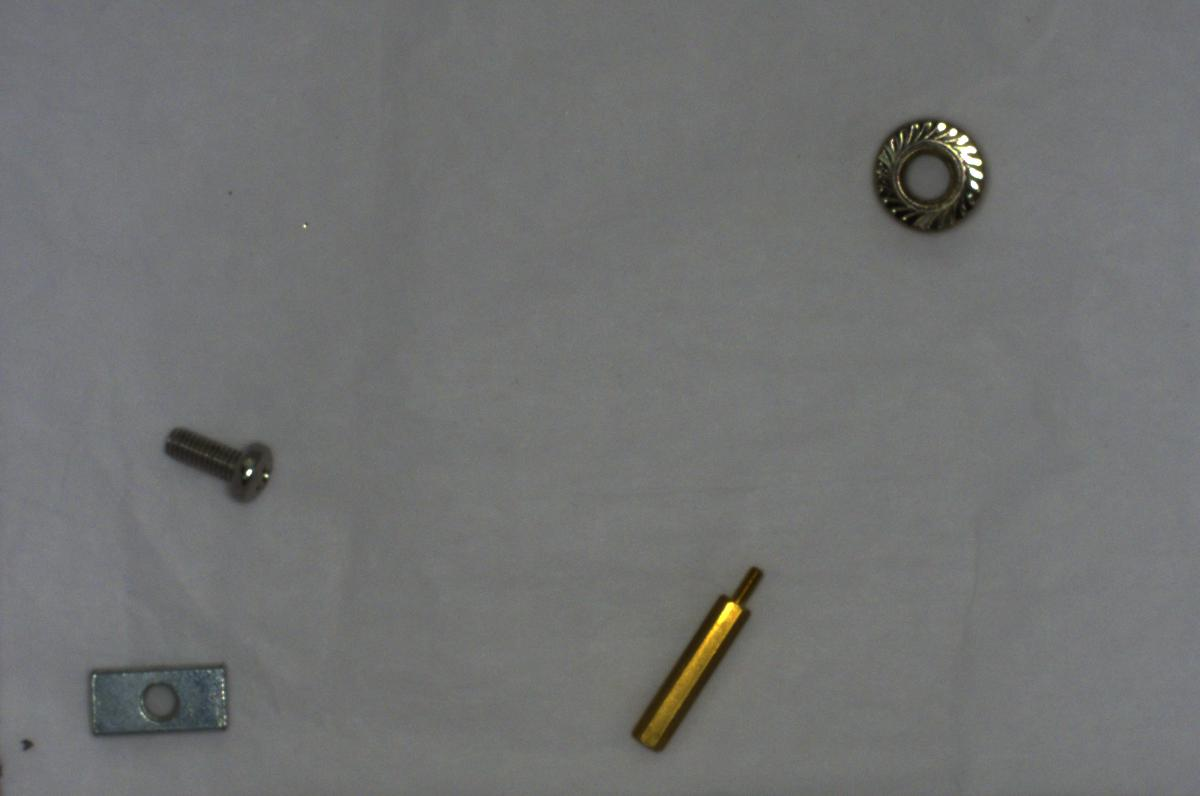Flange nut: (866, 113, 995, 234)
Hexagon pillar: (625, 553, 772, 754)
Rectangular nut: (75, 656, 240, 746)
Round head screw: (154, 422, 290, 507)
